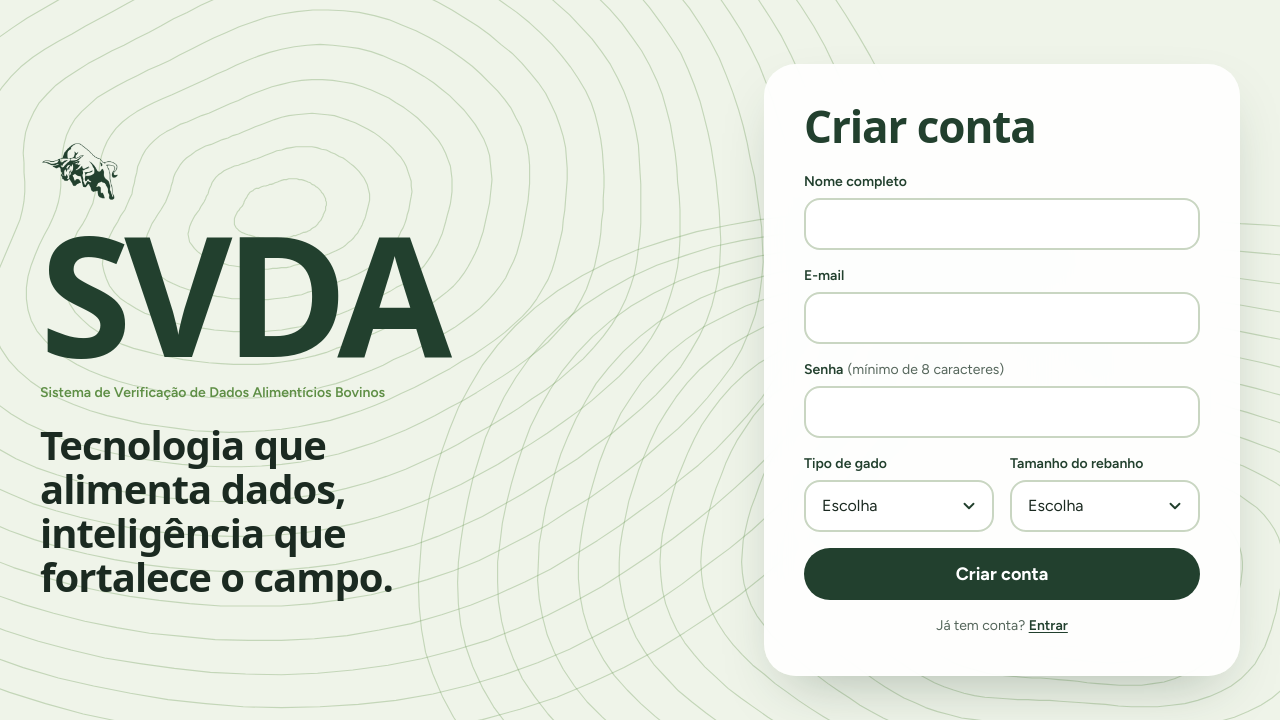
Test: sign-up › shows the server error (for example an e-mail already registered)
This screenshot has width=1280, height=720.
Type "Ana" into the field labelled "Nome completo" at {"x": 1002, "y": 224}, box [804,198,1200,250]
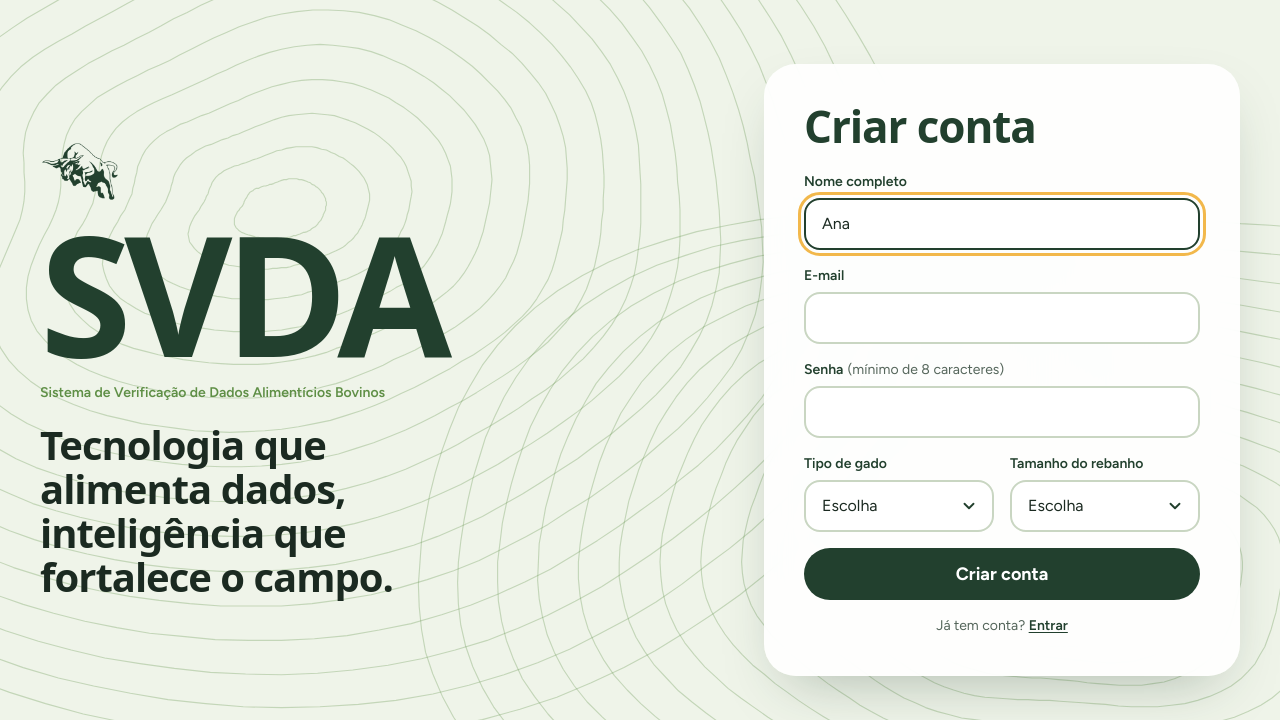
Type "ana@example.com" into the field labelled "E-mail" at {"x": 1002, "y": 318}, box [804,292,1200,344]
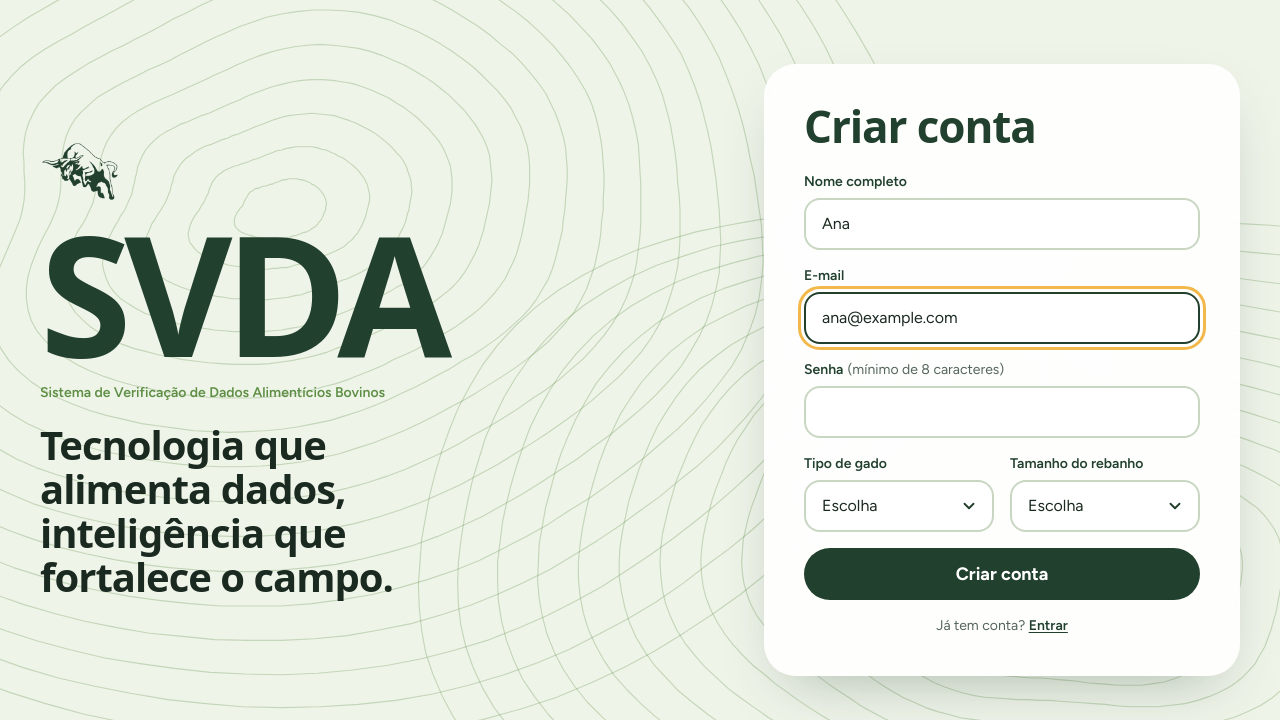
Type "senha-segura-1" into the password field labelled "Senha(mínimo de 8 caracteres)" at {"x": 1002, "y": 412}, box [804,386,1200,438]
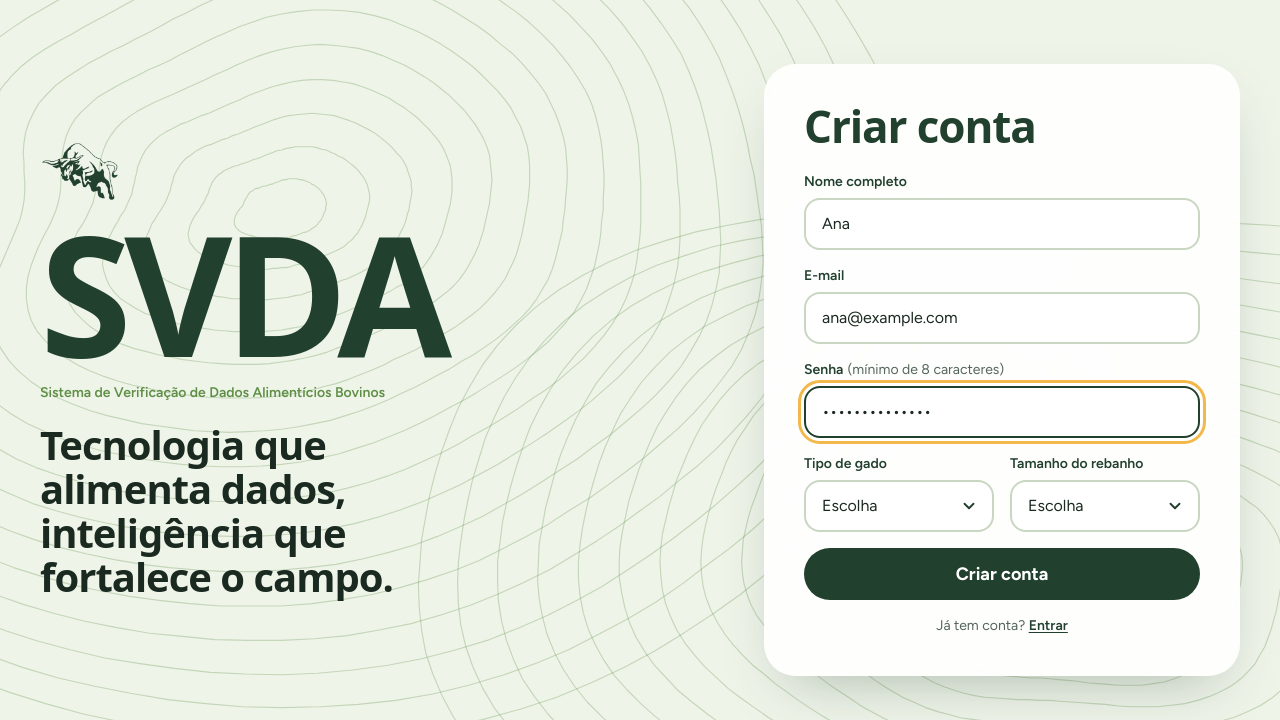
Select "Leite" in the dropdown labelled "Tipo de gado" at {"x": 899, "y": 506}, box [804,480,994,532]
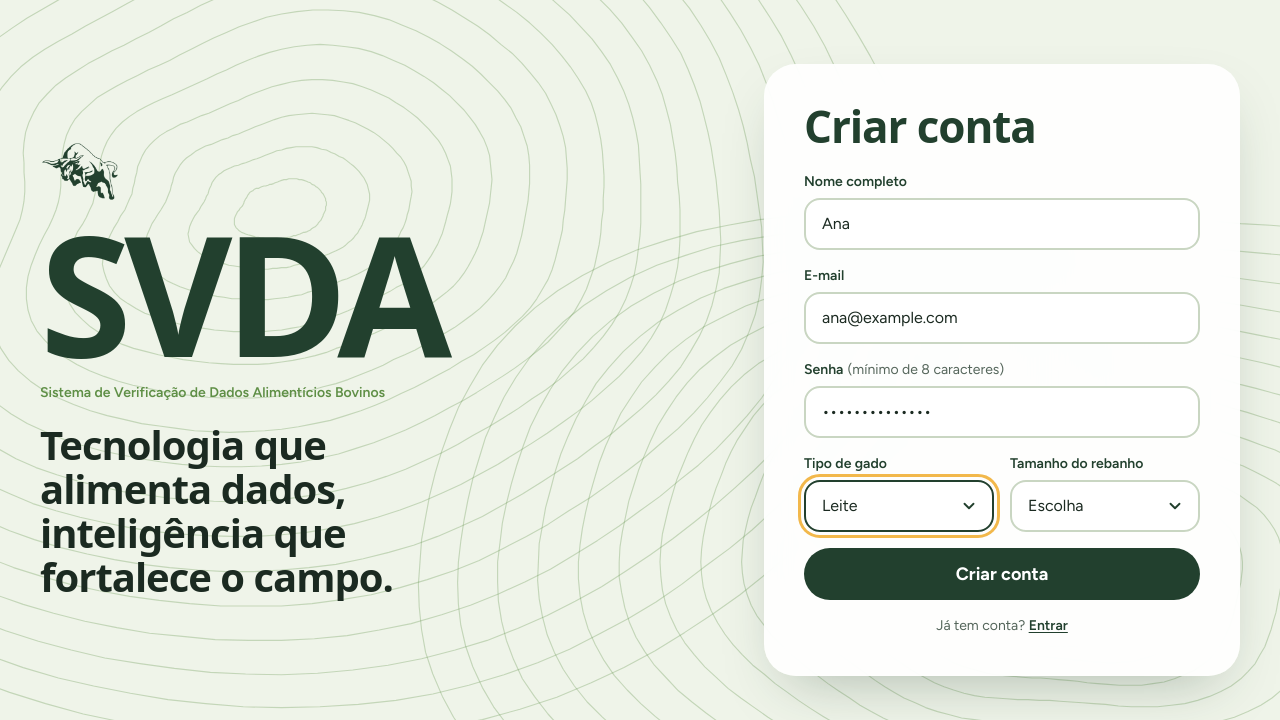
Select "Pequeno" in the dropdown labelled "Tamanho do rebanho" at {"x": 1105, "y": 506}, box [1010,480,1200,532]
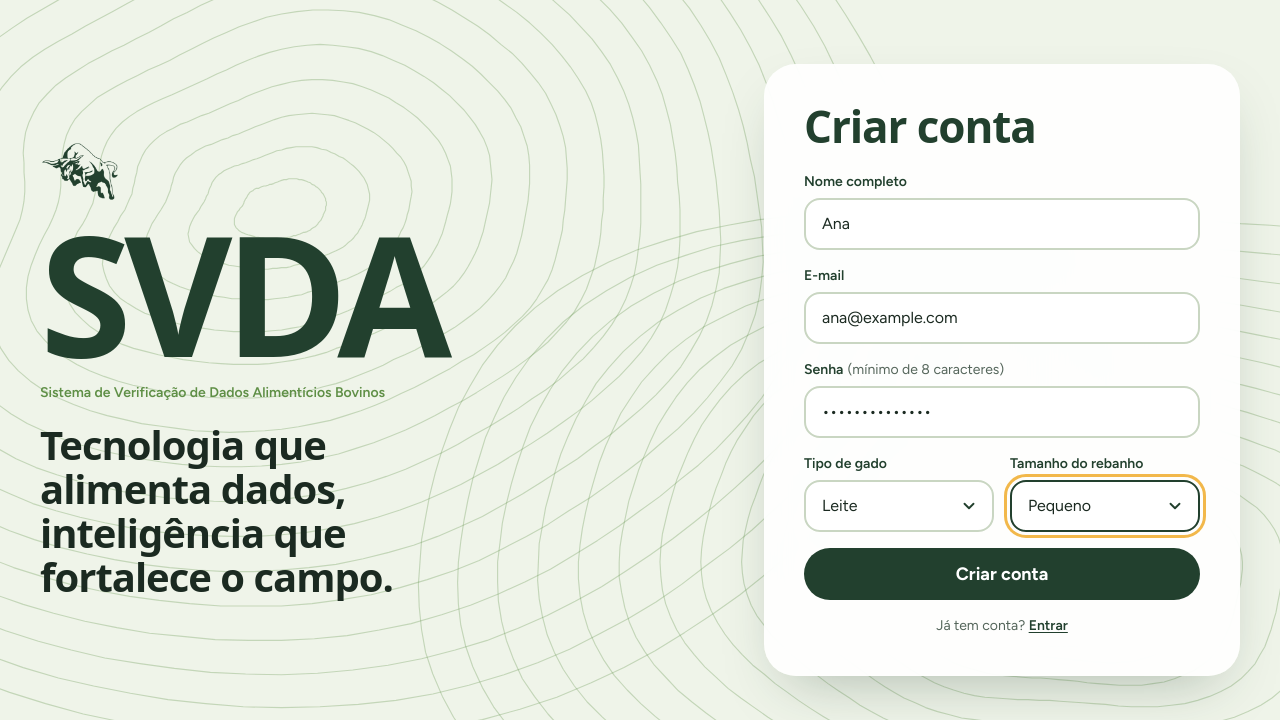
Click the button "Criar conta" at {"x": 1002, "y": 574}, box [804,548,1200,600]
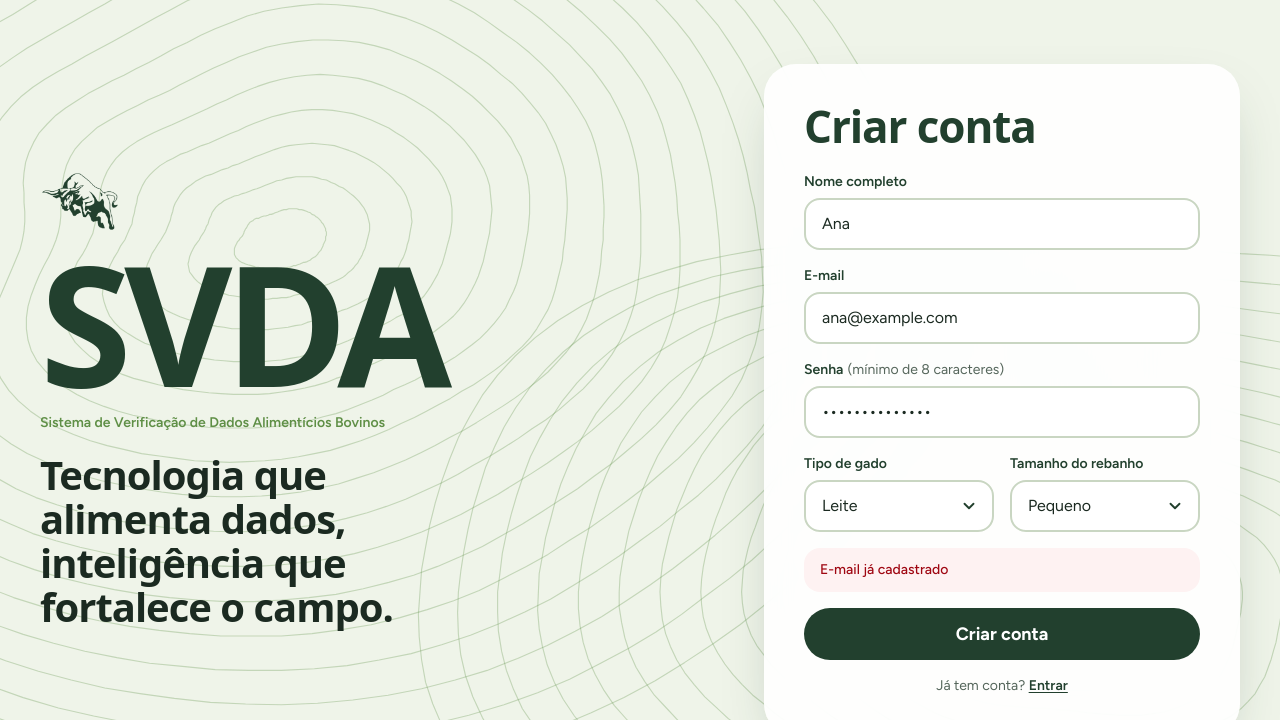
Now the message reads "E-mail já cadastrado", box [820,561,948,578]
